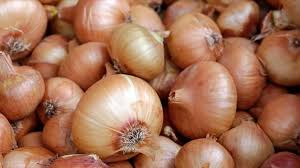Onion: (66, 76, 165, 162)
